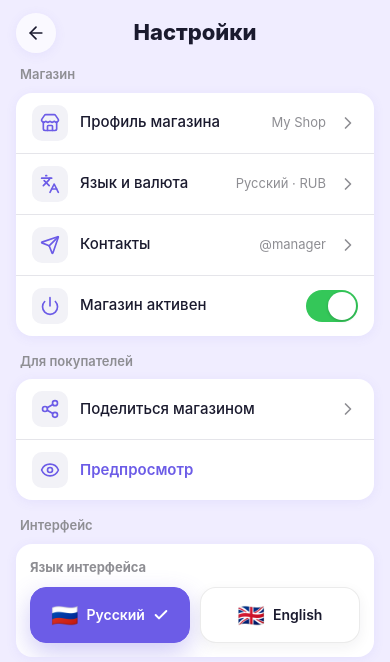
Test: SellerSettingsView (Hub) › при ошибке показывает сообщение и сохраняет draft
Click the switch named "Магазин активен": (332, 306) [306, 290, 358, 322]
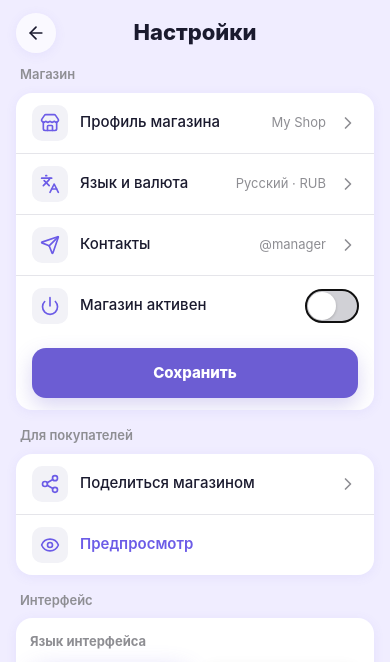
Click the button "Сохранить": (195, 373) [32, 348, 358, 398]
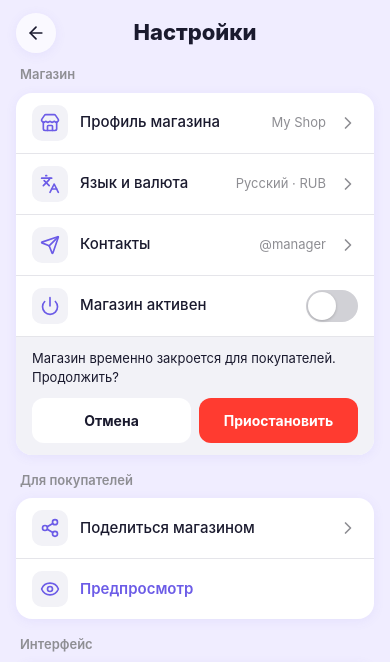
Click the button "Приостановить": (278, 420) [199, 398, 358, 442]
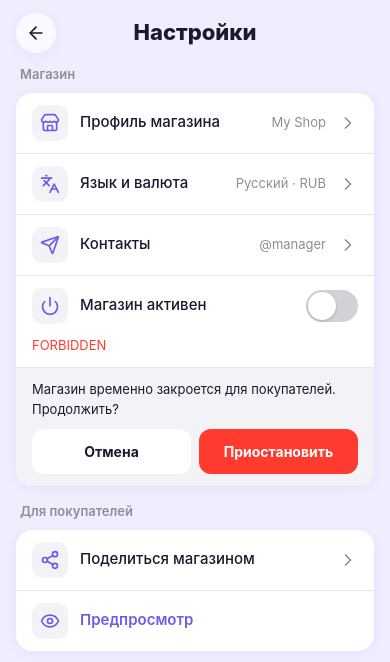
expect the switch named "Магазин активен" is not checked: met, box [306, 290, 358, 322]
expect the button "Приостановить" is shown: met, box [199, 429, 358, 474]
expect the message reads "FORBIDDEN": met, box [32, 336, 106, 352]
